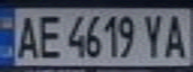1: (103, 11, 121, 58)
4: (63, 11, 87, 58)
6: (81, 11, 103, 60)
9: (115, 11, 139, 58)
A: (9, 11, 42, 61), (160, 10, 193, 60)
E: (33, 11, 63, 60)
Y: (139, 11, 169, 58)
